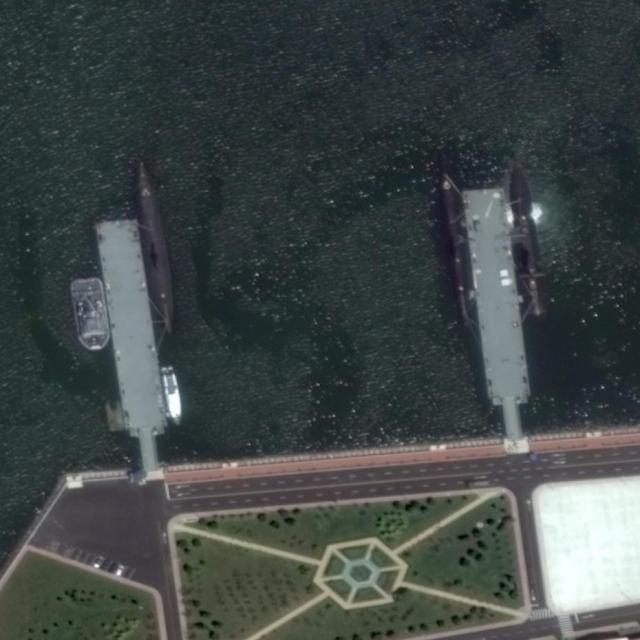Dock: (462, 186, 533, 406), (98, 218, 168, 438)
Other Warship: (70, 274, 114, 352), (158, 364, 184, 429)
Submarine: (127, 157, 180, 334), (432, 168, 478, 329), (504, 167, 550, 320)
